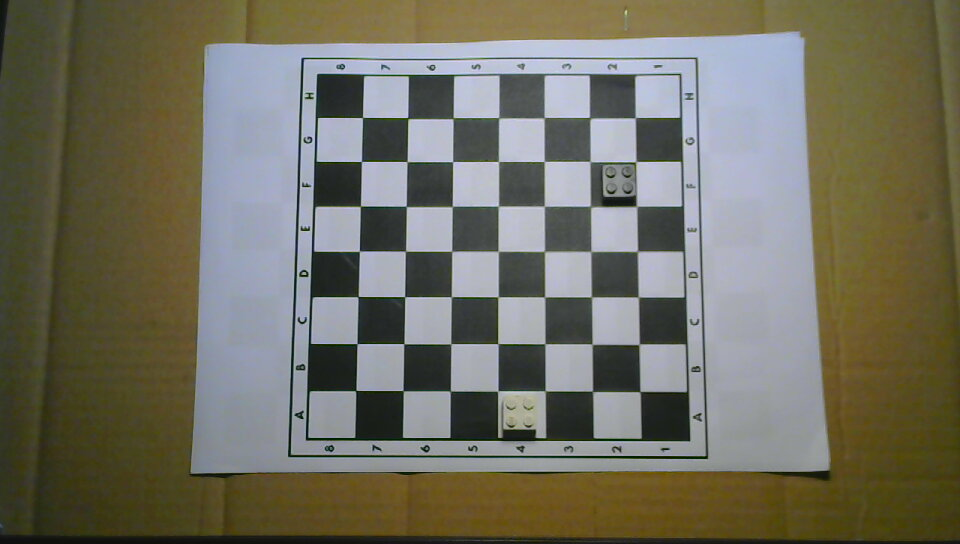bp: (600, 162, 638, 205)
wp: (500, 393, 538, 437)
